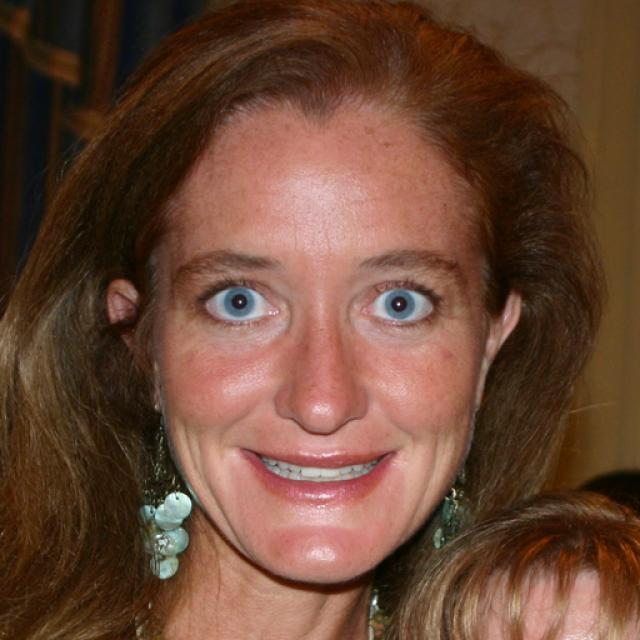0_rostro_limpio: (111, 0, 519, 584)
